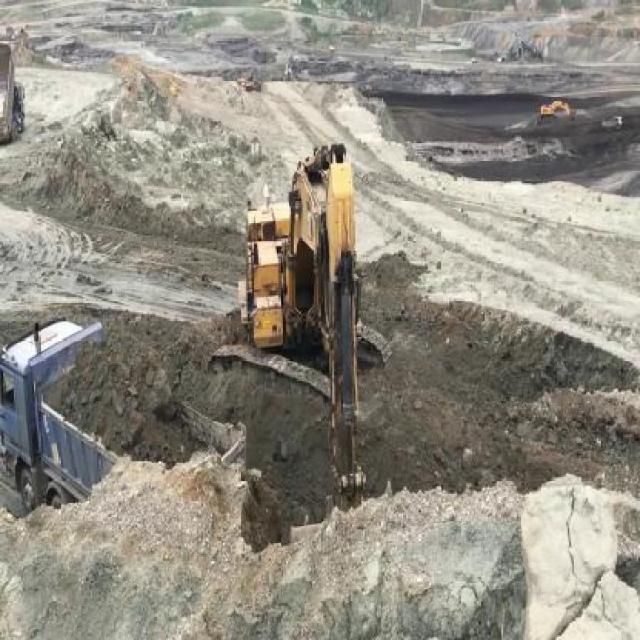Dump Truck: (2, 317, 247, 501)
Excavator: (209, 141, 391, 514)
